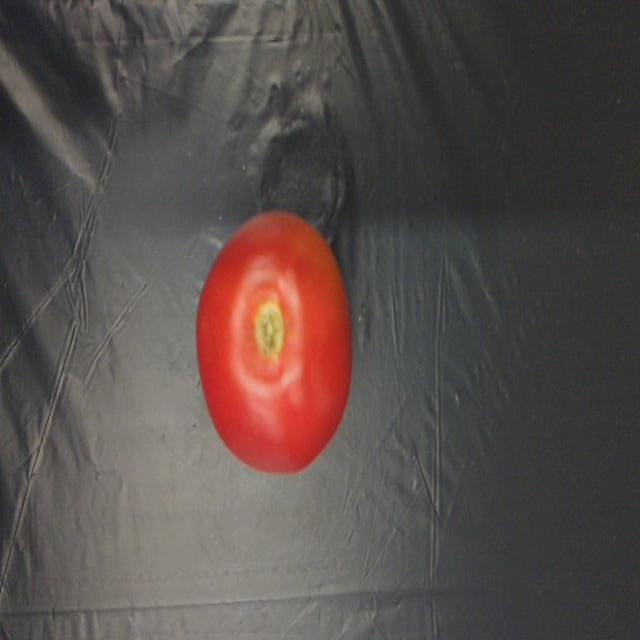kirmizi: (170, 177, 371, 488)
